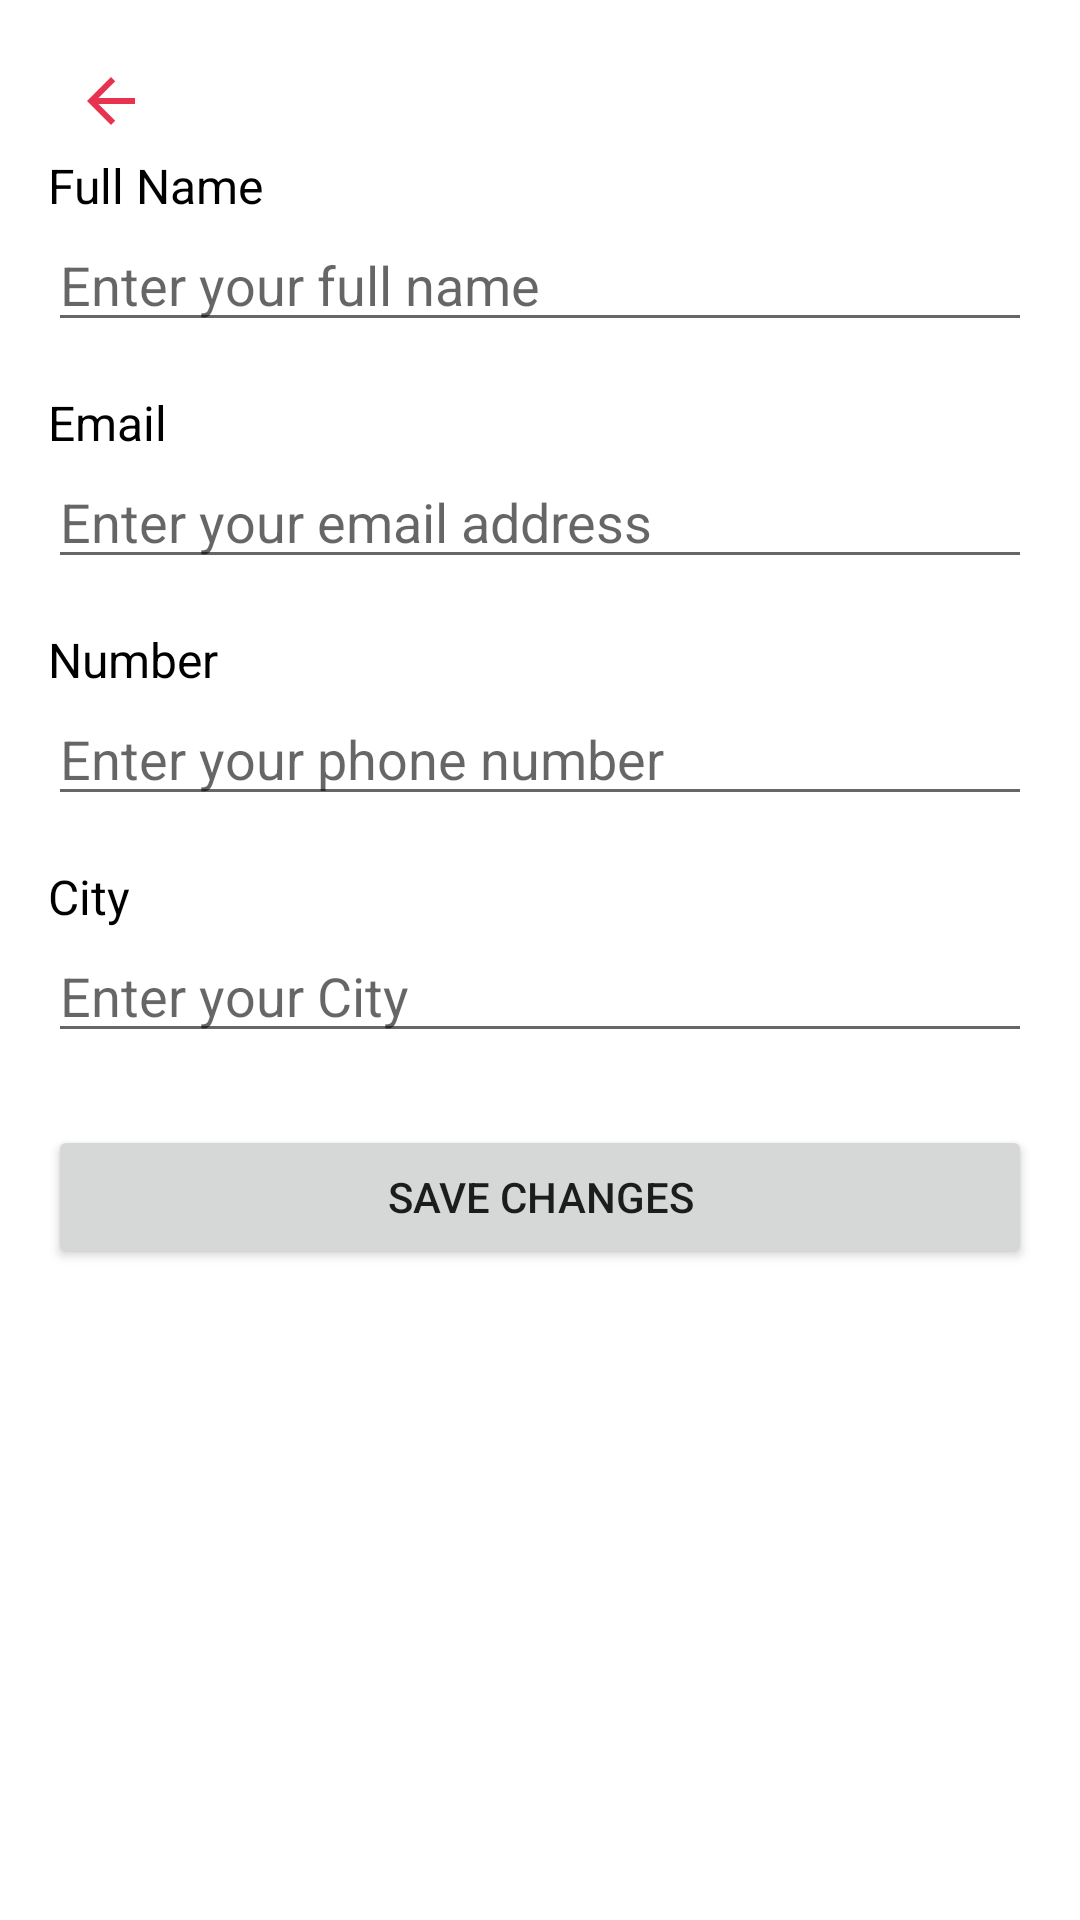

Point at icon controls on the screen. Image size 1080 × 1920, points as (x,y).
arrow back: (111,101)
